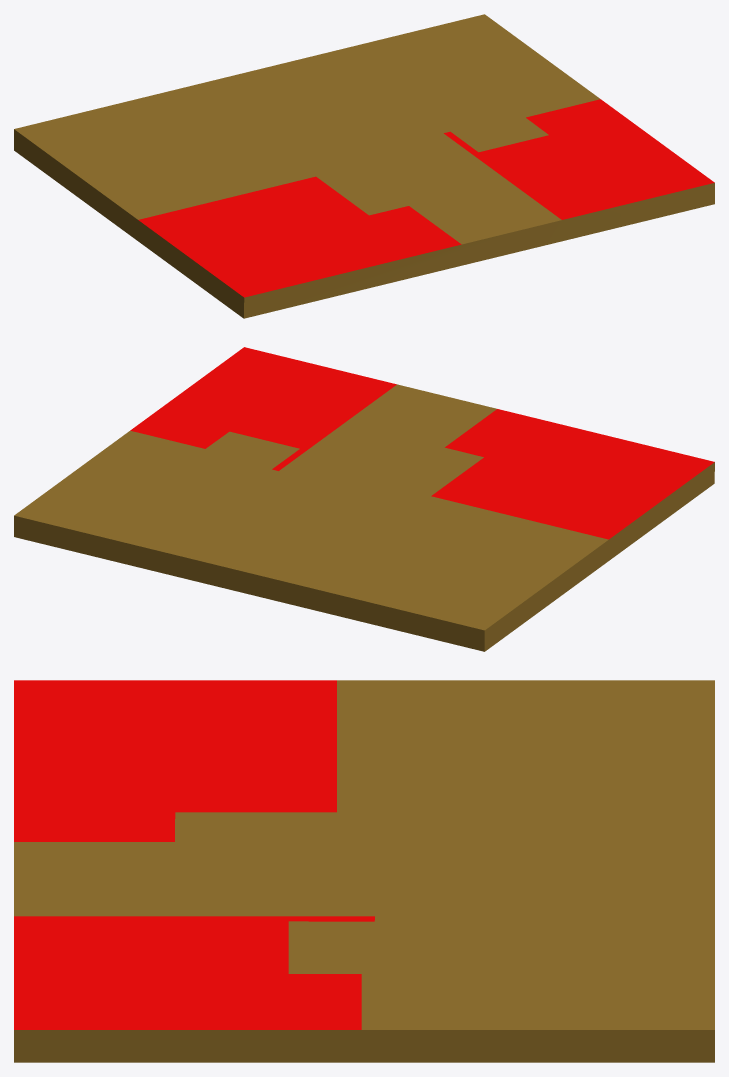
File: FloorHome.fbx
The picture shows the model from 3 angles, top to bottom: view 1: azimuth 30°, elevation 25°; view 2: azimuth 150°, elevation 25°; view 3: azimuth 270°, elevation 25°; orthographic projection. The views are drawn at different scales.
Parts seen in each view (by area): view 1: floor002; view 2: floor002; view 3: floor002.
Boxes of the visible parts, x1=… form: floor002: x1=14, y1=14, x2=714, y2=318; floor002: x1=14, y1=347, x2=714, y2=651; floor002: x1=14, y1=680, x2=714, y2=1062.
Bounding box in the file's own units: 1006 × 43.73 × 852.
